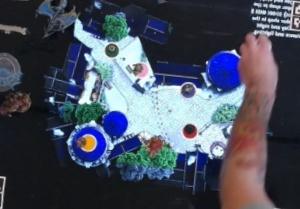green: (101, 39, 123, 62)
pink: (131, 59, 150, 79)
red: (182, 121, 201, 140)
violet: (176, 78, 199, 102)
yellow: (76, 130, 100, 153)
